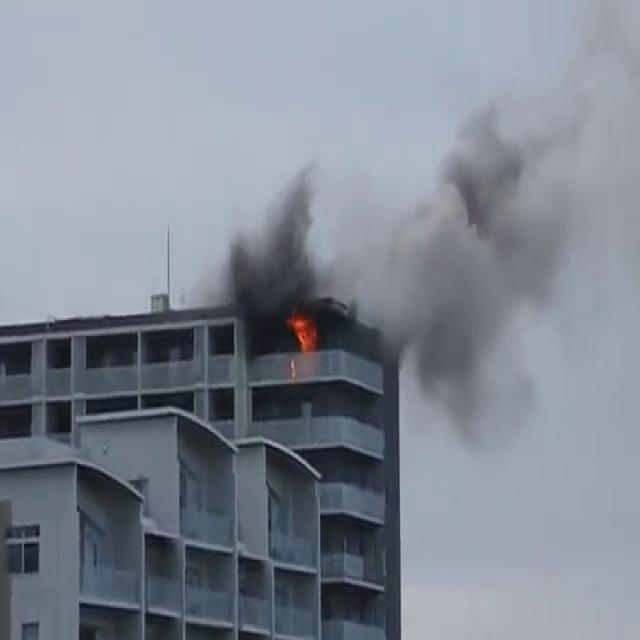Fire: (282, 306, 321, 361)
Smoke: (368, 12, 640, 624), (208, 141, 349, 353)
